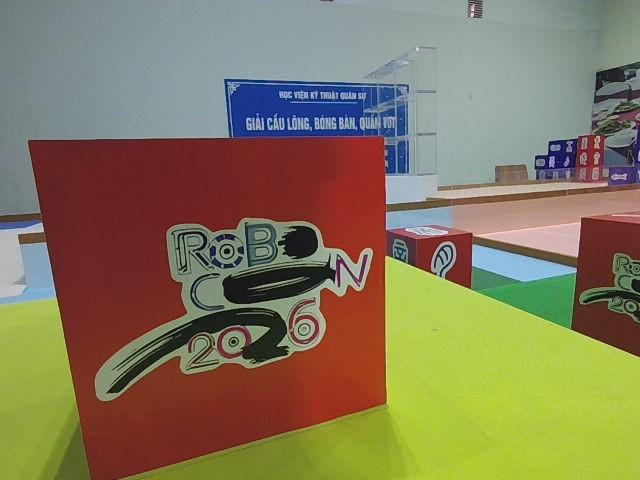R1: (26, 133, 386, 480), (569, 210, 640, 358)
R2 Fake: (387, 224, 473, 293)
